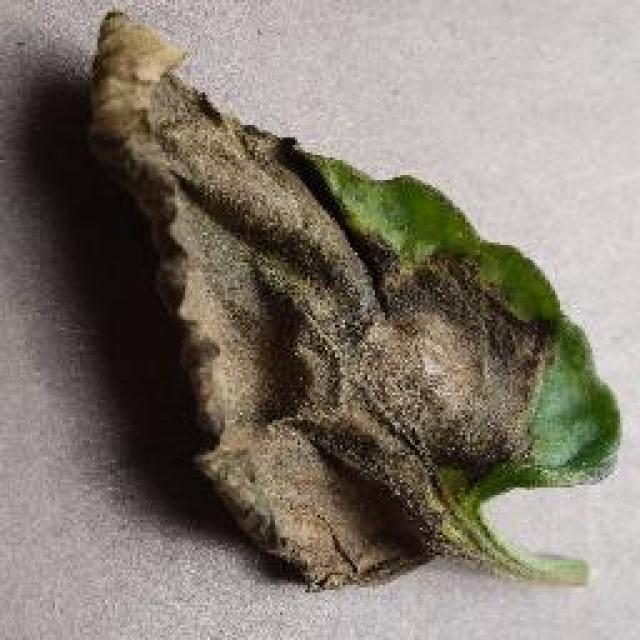Tomato late blight leaf: (85, 1, 620, 588)
